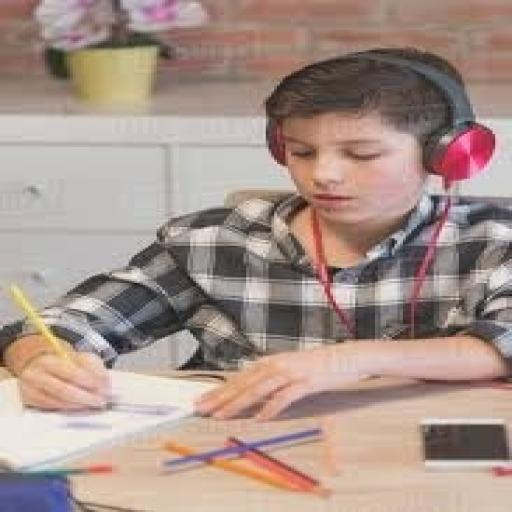listening_to_music: (0, 44, 509, 422)
